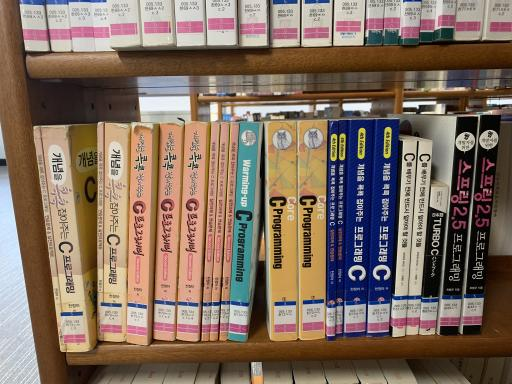book-spine: (41, 126, 91, 352), (437, 116, 478, 336), (462, 115, 500, 335), (34, 126, 66, 352), (366, 119, 399, 337), (176, 122, 208, 342), (228, 122, 260, 341), (268, 121, 298, 341), (154, 122, 184, 341), (299, 120, 328, 340), (343, 120, 372, 338), (127, 122, 152, 345), (104, 122, 129, 341), (406, 142, 433, 335), (392, 140, 417, 338), (220, 123, 239, 340), (201, 122, 219, 341), (420, 188, 447, 334), (210, 123, 228, 341), (327, 121, 338, 341), (336, 120, 347, 338), (97, 122, 103, 340)
